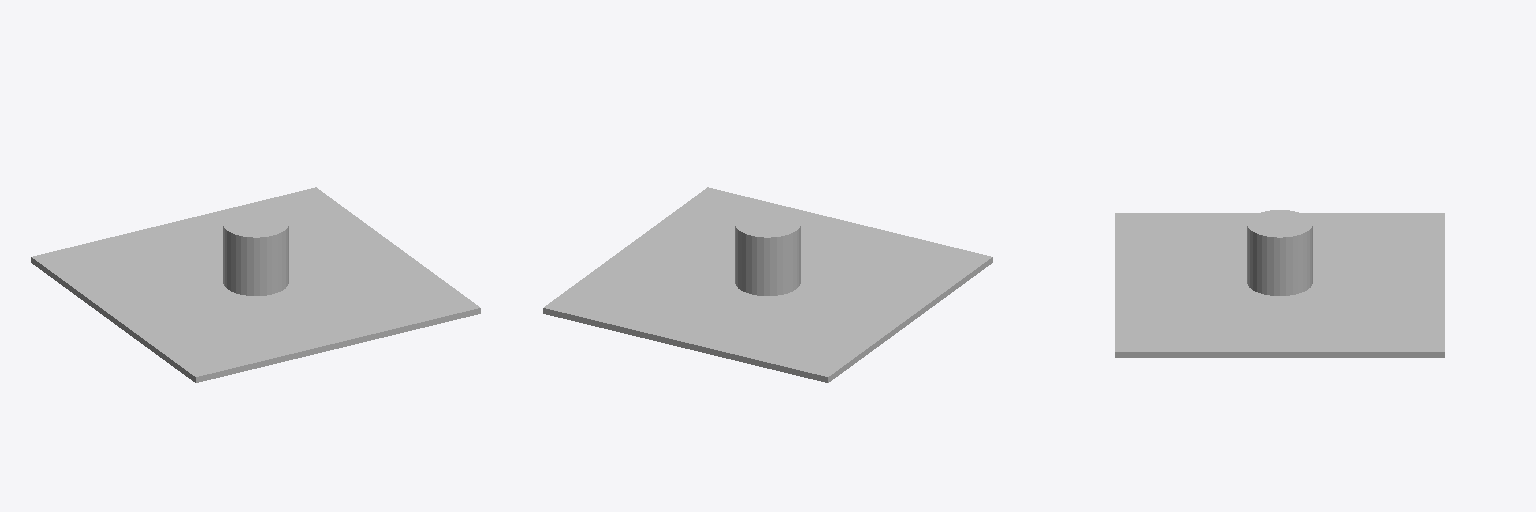
The model's file is hacks.obj.
3 renders of one model, left to right at view 1: azimuth 30°, elevation 25°; view 2: azimuth 150°, elevation 25°; view 3: azimuth 270°, elevation 25°, orthographic.
Parts seen in each view (by area): view 1: Cube_Cube.001; view 2: Cube_Cube.001; view 3: Cube_Cube.001.
Boxes of the visible parts, x1=… form: Cube_Cube.001: x1=31, y1=187, x2=480, y2=382; Cube_Cube.001: x1=543, y1=187, x2=992, y2=382; Cube_Cube.001: x1=1115, y1=210, x2=1444, y2=357.
Size of the model in its own units: 10 by 2.16 by 10.